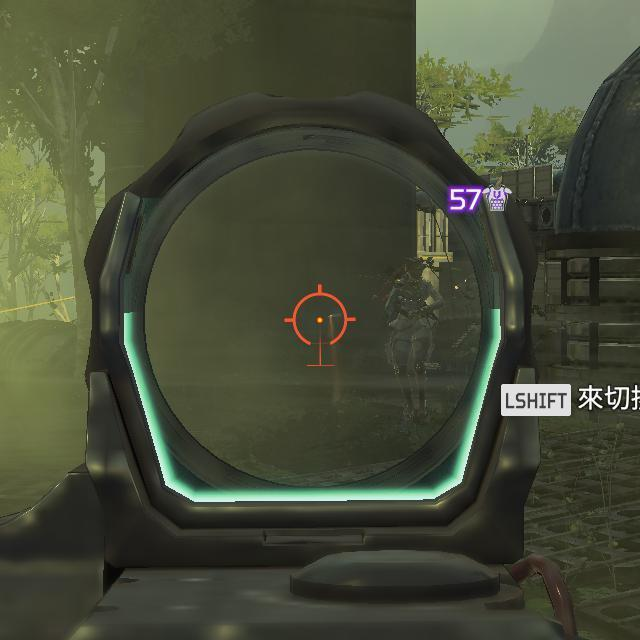avatar: (382, 255, 446, 422)
